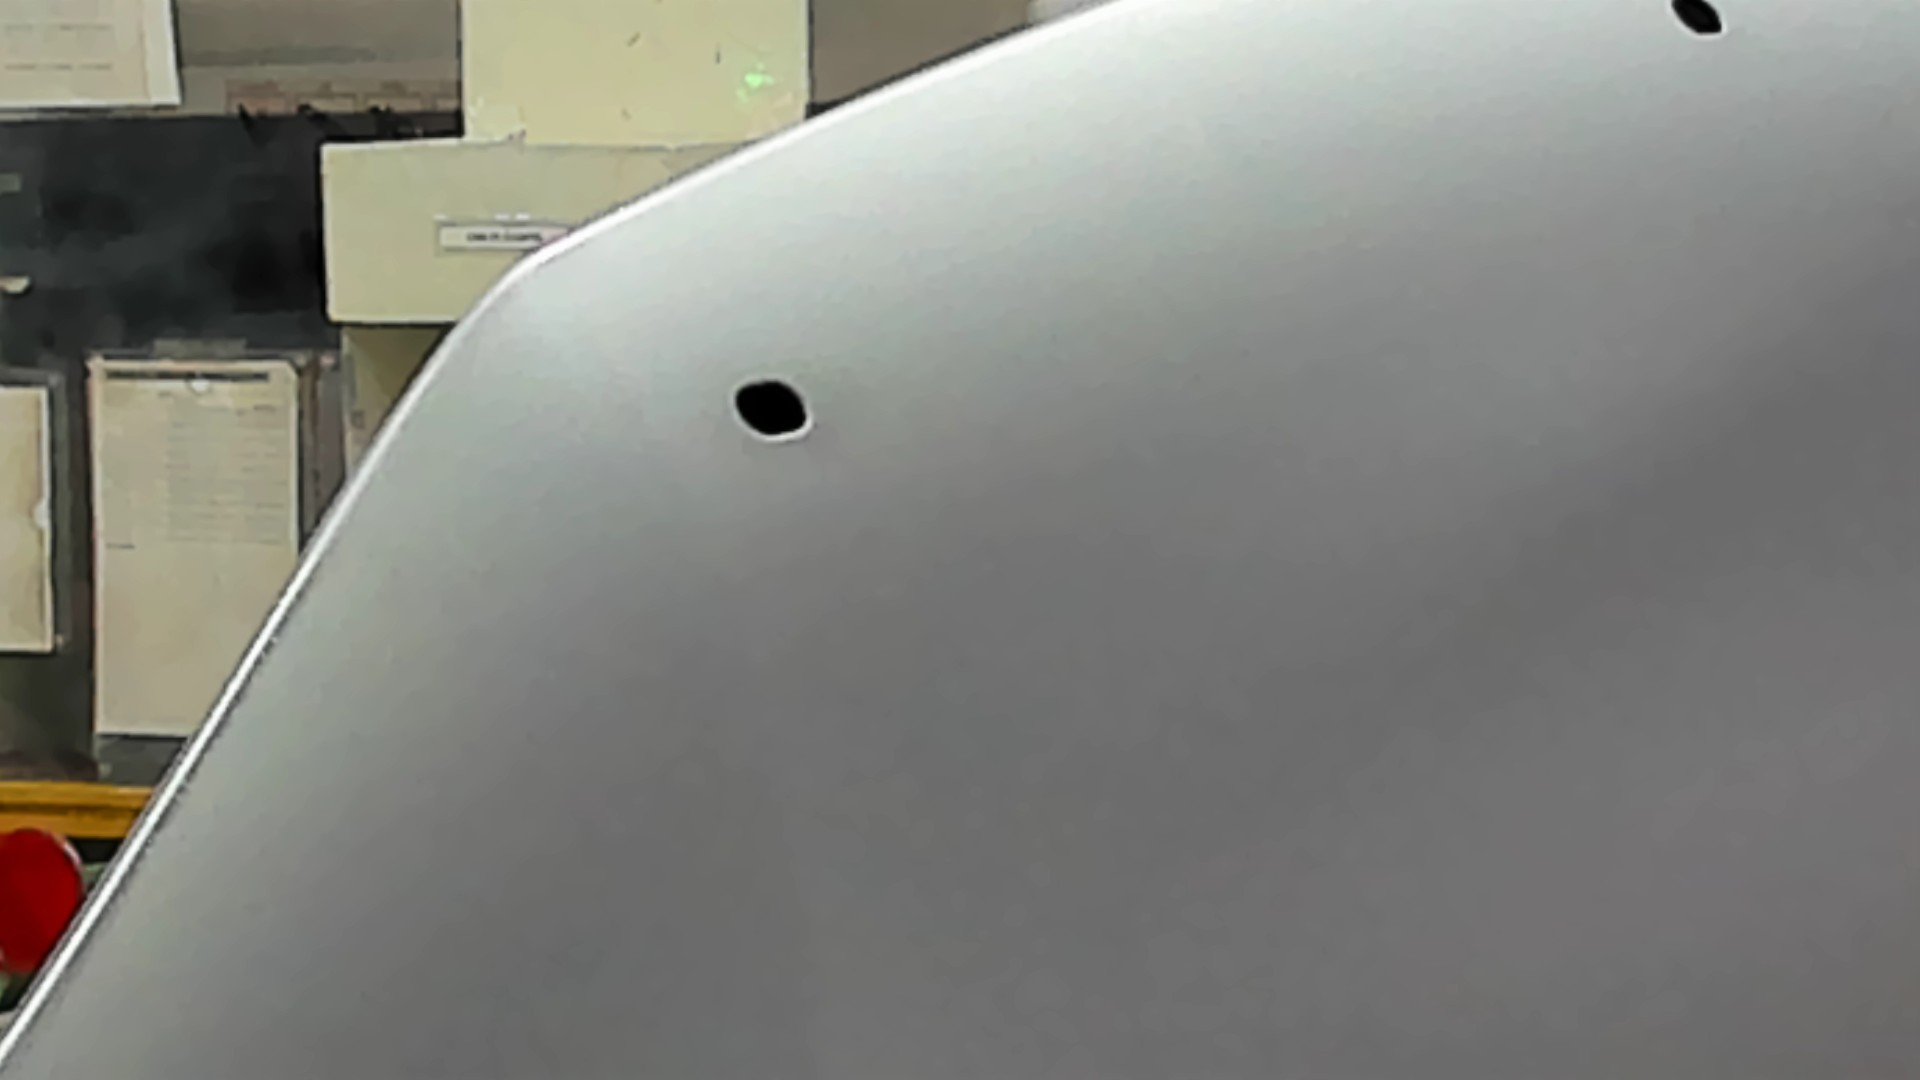chico: (717, 375, 825, 448), (1656, 1, 1741, 46)
